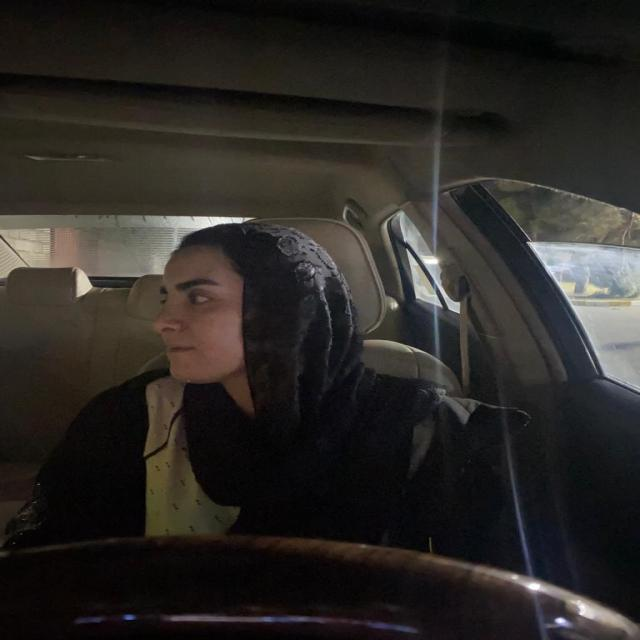LeftRight: (111, 226, 347, 390)
